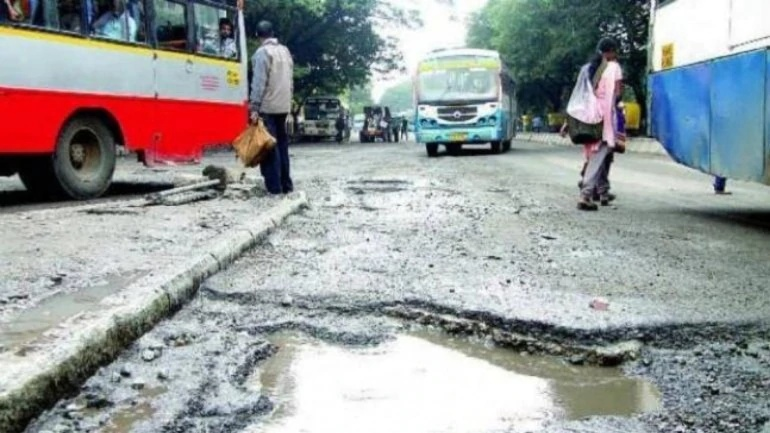pothole: (212, 300, 754, 425), (345, 171, 433, 206)
